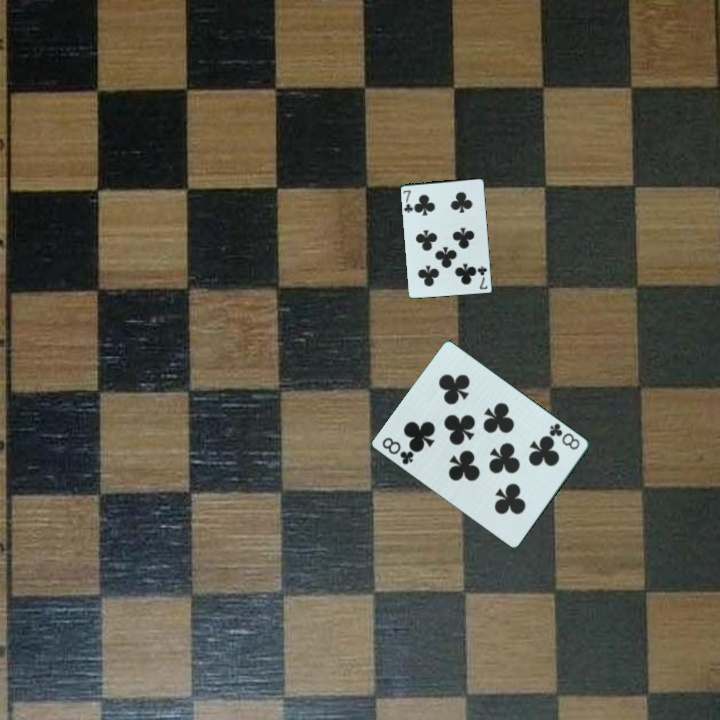7c: (400, 187, 415, 216), (475, 263, 490, 292)
8c: (379, 434, 417, 468), (546, 419, 583, 453)
